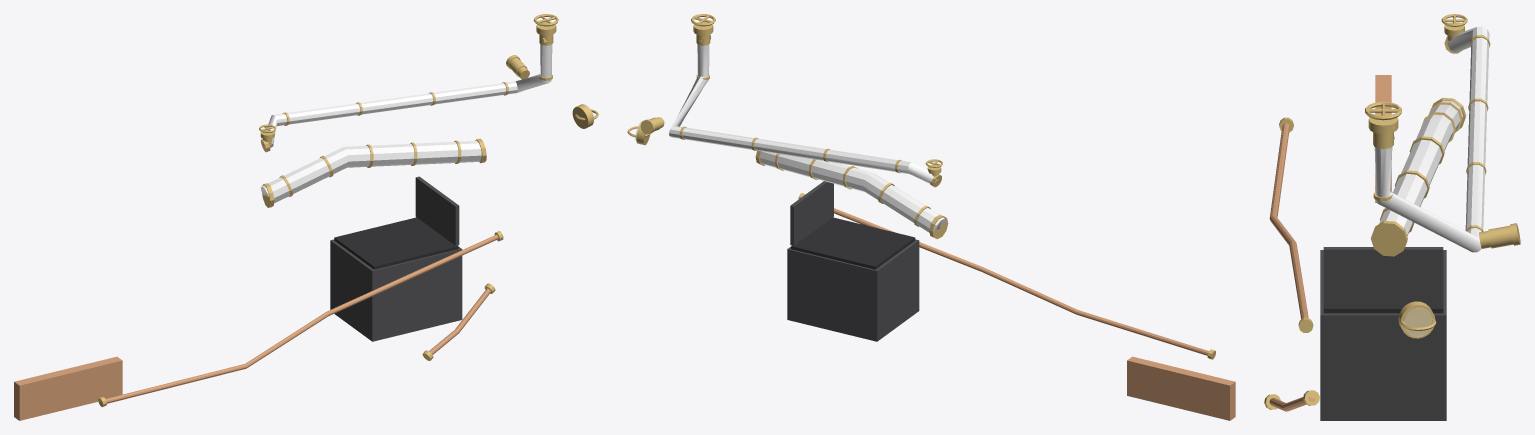
Rendered from Pipework_Fittings.glb.
The picture shows the model from 3 angles, left to right: view 1: azimuth 30°, elevation 25°; view 2: azimuth 150°, elevation 25°; view 3: azimuth 270°, elevation 25°; orthographic projection. The views are drawn at different scales.
Parts seen in each view (by area): view 1: Pipework_Fittings; view 2: Pipework_Fittings; view 3: Pipework_Fittings.
Part boxes in pixels (box(x1,y1,x2,y2)): Pipework_Fittings: box(14, 14, 598, 420); Pipework_Fittings: box(627, 14, 1235, 420); Pipework_Fittings: box(1264, 14, 1520, 420).
Size of the model in its own units: 3.16 by 1.41 by 0.7932.
